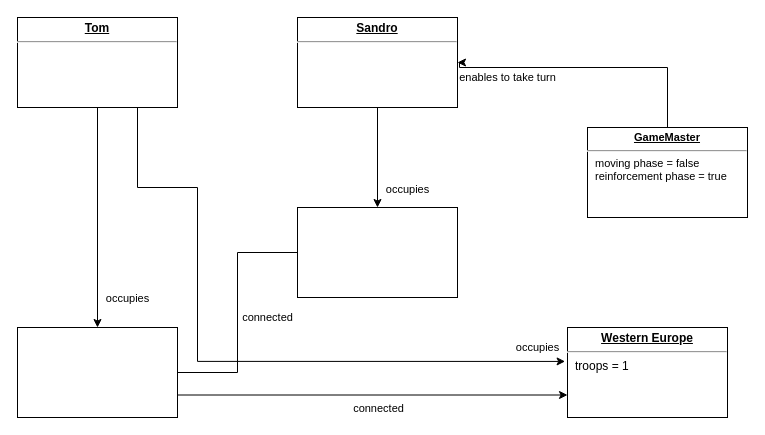
Some shapes in this 765 by 435 pixel diagram are drawn without their labels. The centre of each missing label's shape, as x and y in pixels:
Great Britain troops = 1: the point at 97,372
Scandinavia troops = 1: the point at 377,252
